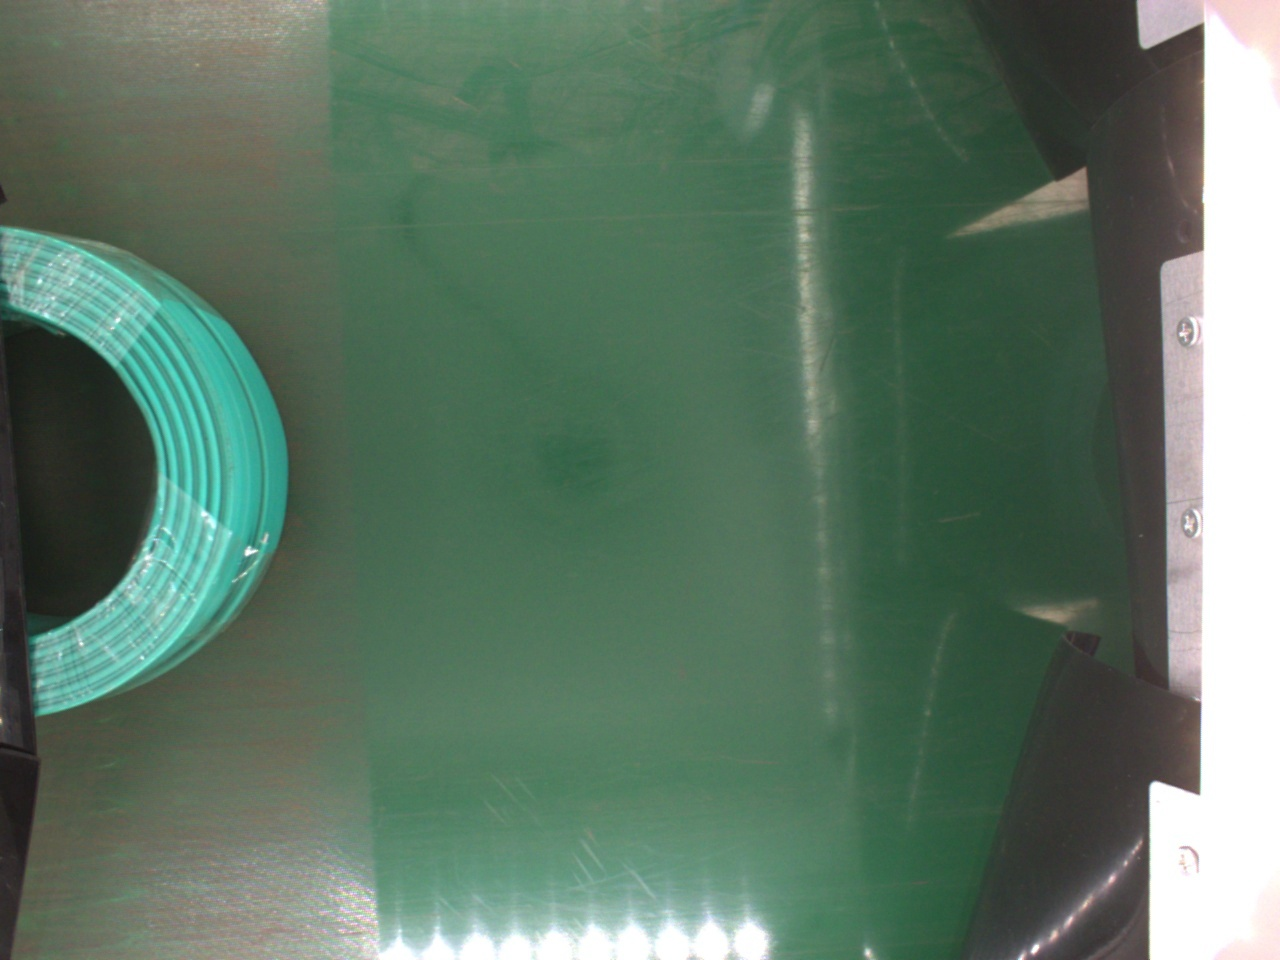green: (5, 228, 289, 721)
